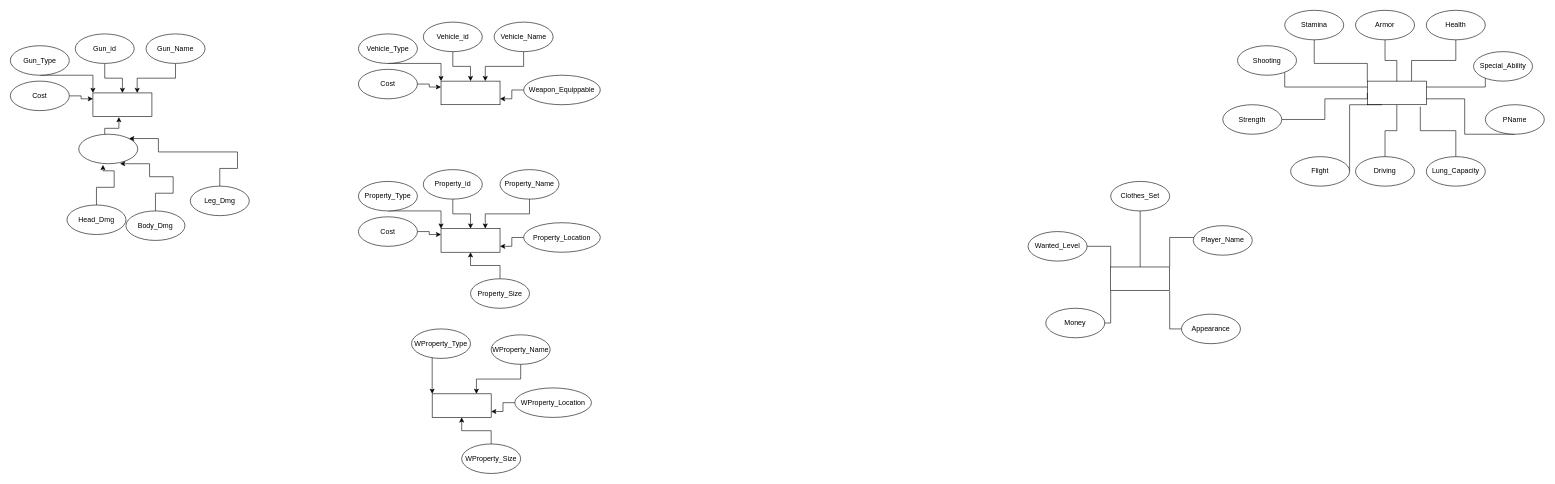
Some shapes in this 1555 by 484 pixel diagram are drawn without their labels. Each missing label, with the centre of its shape:
Attributes: the point at 1396,93
Damage: the point at 108,149
Gun: the point at 122,104
Player: the point at 1140,278
Property: the point at 470,240
Vehicle: the point at 470,93
World_Property: the point at 461,405
